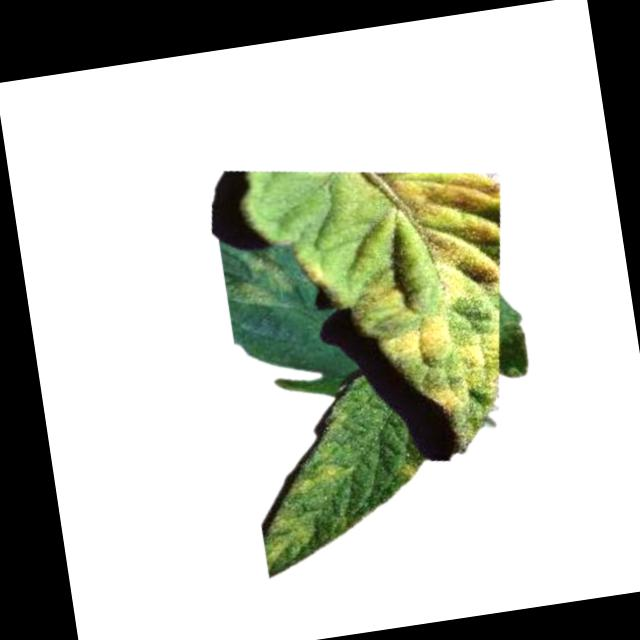Leaf_Mold: (288, 153, 534, 434), (287, 459, 354, 499)
